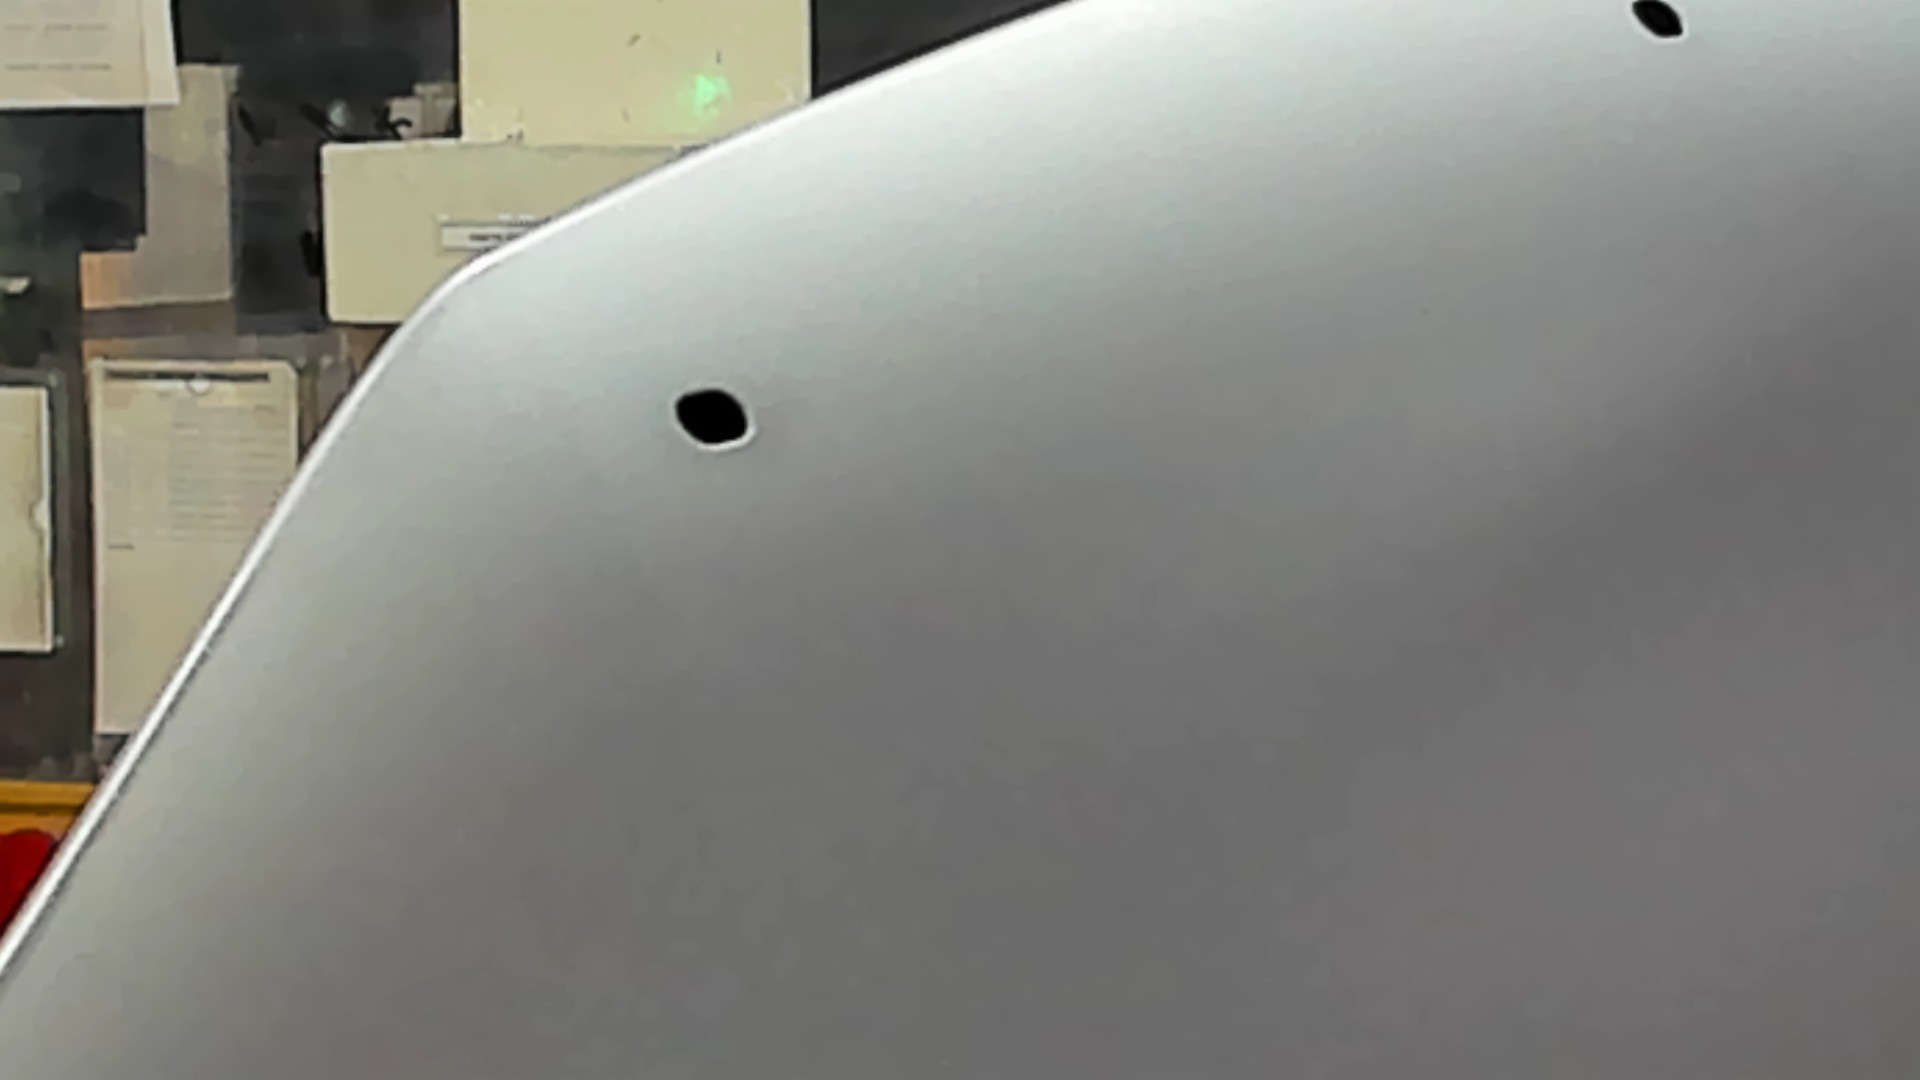chico: (657, 378, 778, 458), (1627, 1, 1716, 61)
